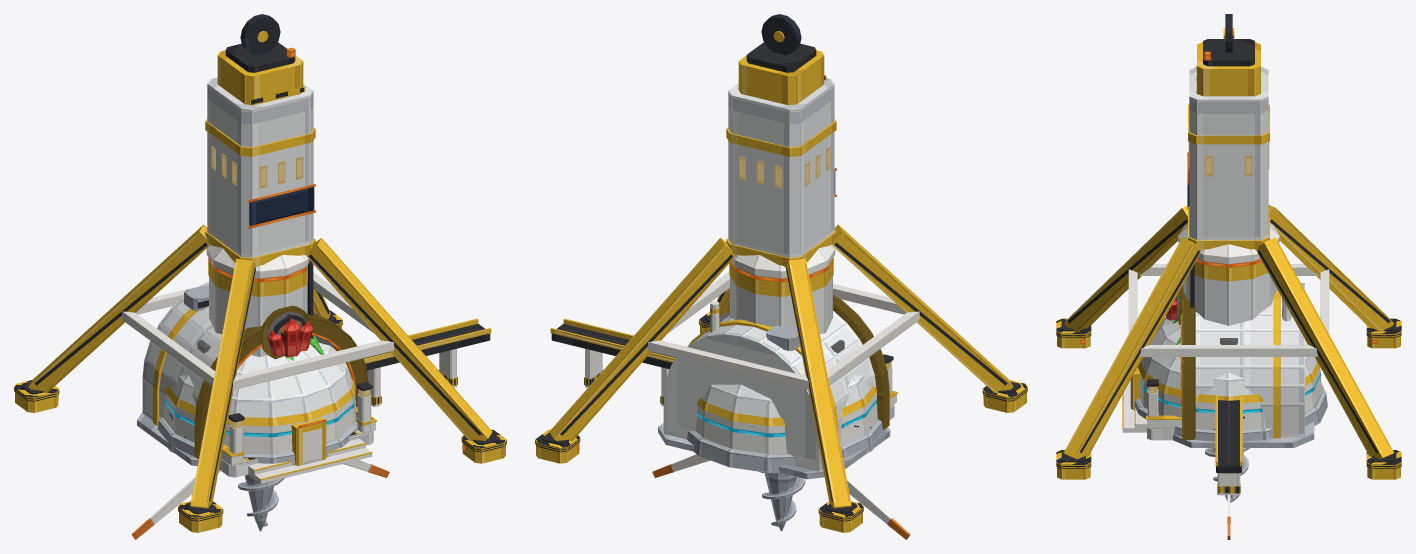
The model's file is tech-base-props.glb.
3 views of the same model, side by side, from view 1: azimuth 30°, elevation 25°; view 2: azimuth 150°, elevation 25°; view 3: azimuth 270°, elevation 25° (orthographic). The views are drawn at different scales.
Parts seen in each view (by area): view 1: Column, DomeShell, Leg.003, Leg.001, Leg, Vault, DomeWall, Motor, Front, SiloBody, Brace.002, Screen (+24 smaller); view 2: Column, Vault, Leg.002, Leg, Leg.001, DomeWall, SiloBody, Motor, DomeBase, Brace, DomeShell, Front (+18 smaller); view 3: Column, Leg.002, Leg.003, Vault, SiloBody, Leg, Leg.001, DomeShell, Shell, Motor, Brace.003, DomeWall (+19 smaller).
Boxes of the visible parts, x1,y1,x2,y2 form: Column: [207, 77, 313, 267]; DomeShell: [170, 343, 352, 417]; Leg.003: [306, 238, 492, 440]; Leg.001: [190, 258, 255, 508]; Leg: [28, 224, 209, 392]; Vault: [142, 282, 211, 420]; DomeWall: [163, 392, 356, 454]; Motor: [217, 50, 303, 105]; Front: [194, 313, 368, 459]; SiloBody: [209, 266, 307, 356]; Brace.002: [232, 340, 394, 389]; Screen: [249, 187, 314, 225]; Column: [728, 78, 834, 267]; Vault: [663, 317, 849, 471]; Leg.002: [549, 238, 735, 440]; Leg: [786, 258, 851, 508]; Leg.001: [832, 224, 1013, 392]; DomeWall: [695, 394, 877, 454]; SiloBody: [730, 266, 832, 333]; Motor: [738, 50, 824, 105]; DomeBase: [687, 419, 883, 472]; Brace: [647, 340, 809, 389]; DomeShell: [702, 375, 871, 417]; Front: [729, 295, 889, 429]; Column: [1189, 66, 1268, 250]; Leg.002: [1256, 237, 1394, 459]; Leg.003: [1063, 237, 1201, 459]; Vault: [1244, 283, 1304, 437]; SiloBody: [1183, 258, 1277, 325]; Leg: [1268, 205, 1393, 332]; Leg.001: [1064, 206, 1189, 332]; DomeShell: [1140, 317, 1317, 396]; Shell: [1195, 312, 1244, 408]; Motor: [1197, 42, 1260, 96]; Brace.003: [1140, 345, 1317, 356]; DomeWall: [1139, 368, 1321, 429].
Size of the model in its own units: 27.45 by 35.37 by 22.7.
Materials: 2 (2 with a texture image).
